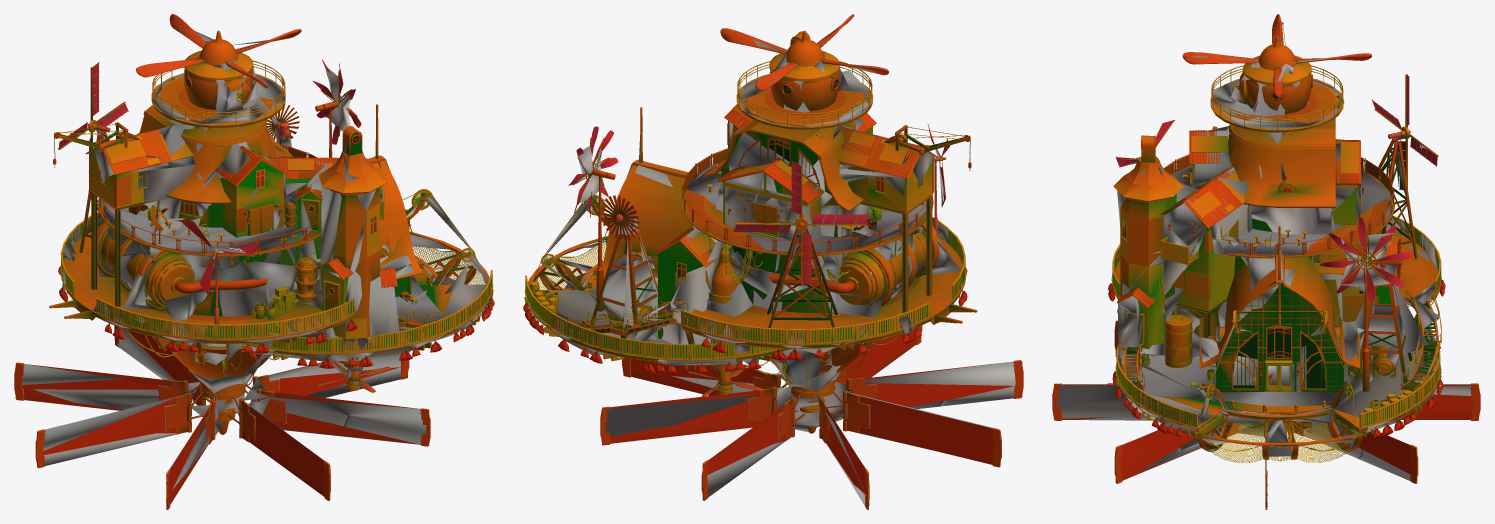
Rendered from KB3D_CSK_BldgMdFloatingManor_A.glb.
3 renders of one model, left to right at view 1: azimuth 30°, elevation 25°; view 2: azimuth 150°, elevation 25°; view 3: azimuth 270°, elevation 25°, orthographic. The views are drawn at different scales.
Visible parts, largest first — view 1: L0, L2, L1; view 2: L0, L2, L1; view 3: L0, L2, L1.
Boxes of the visible parts, x1,y1,x2,y2 form: L0: (14,14,494,509); L2: (22,25,490,489); L1: (14,16,492,506); L0: (523,14,1023,509); L2: (528,36,1018,505); L1: (524,24,1023,506); L0: (1052,14,1480,509); L2: (1057,55,1472,505); L1: (1052,15,1479,507).
Size of the model in its own units: 34.74 by 29.99 by 29.33.
